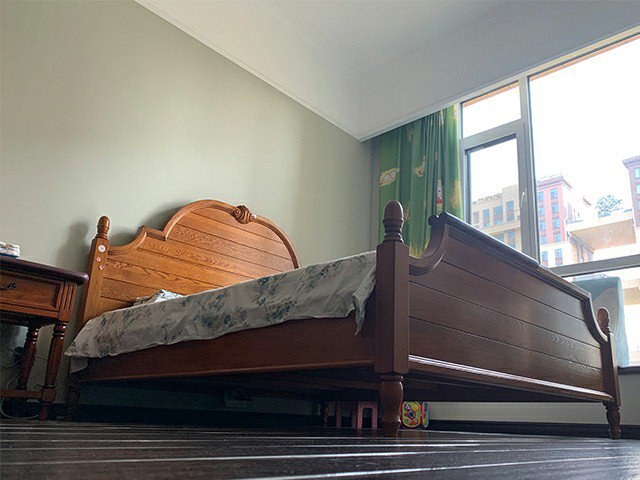bed: (63, 198, 624, 441)
table: (1, 252, 89, 417)
